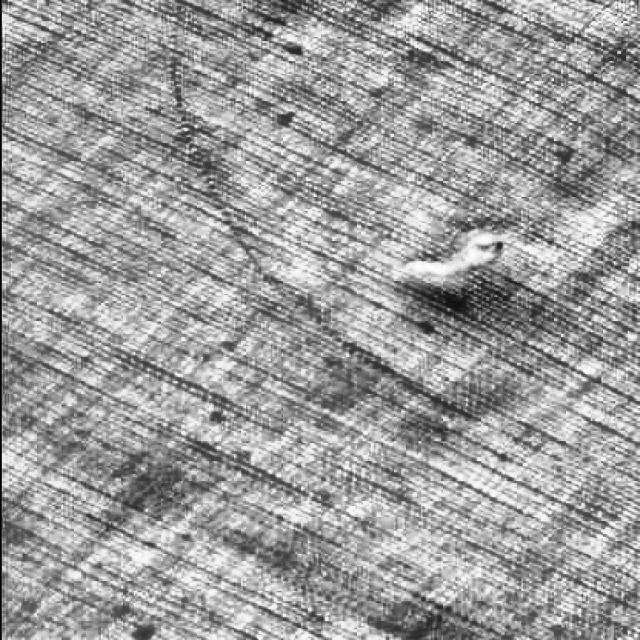objects: (399, 204, 529, 301)
thread_error: (150, 29, 482, 442)
